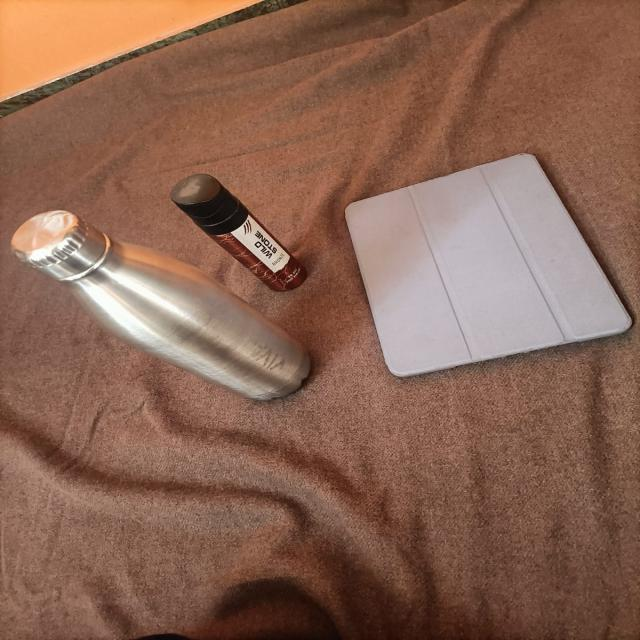bottle: (13, 174, 335, 432)
spray: (158, 161, 325, 369)
tablet: (329, 120, 633, 403)
